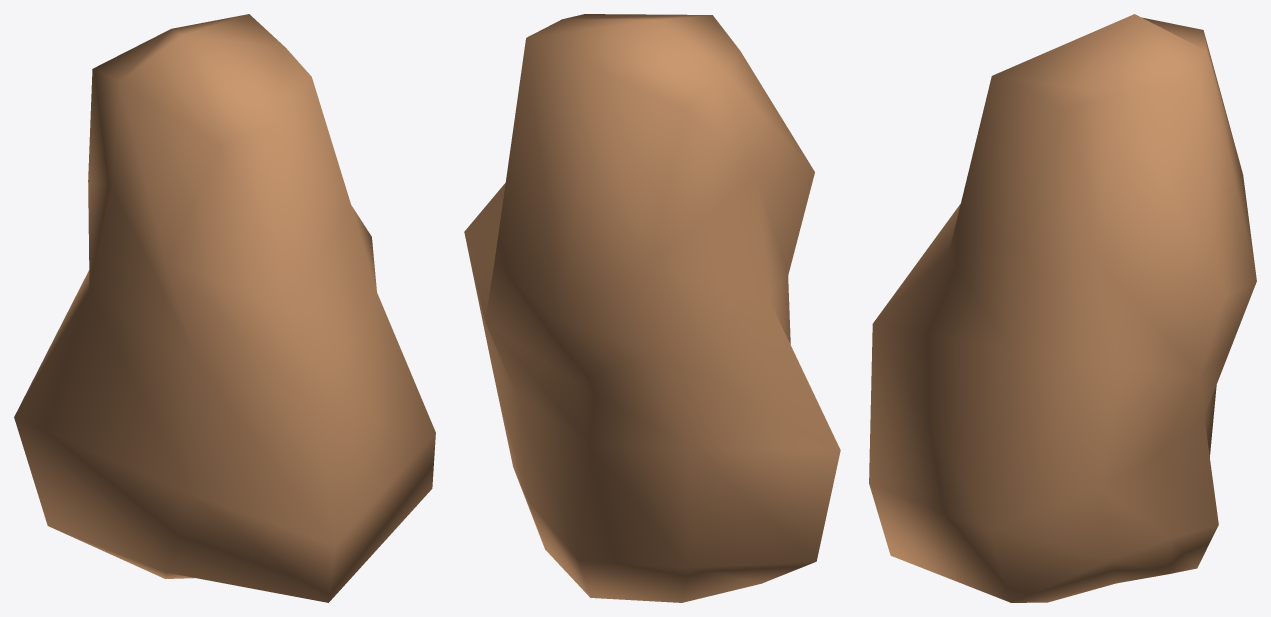
The model's file is Rock_2.fbx.
3 views of the same model, side by side, from view 1: azimuth 30°, elevation 25°; view 2: azimuth 150°, elevation 25°; view 3: azimuth 270°, elevation 25° (orthographic). The views are drawn at different scales.
Visible parts, largest first — view 1: rock_3; view 2: rock_3; view 3: rock_3.
Boxes of the visible parts, x1,y1,x2,y2 form: rock_3: [14, 14, 435, 602]; rock_3: [464, 14, 840, 602]; rock_3: [869, 14, 1256, 602].
Size of the model in its own units: 1028 by 1387 by 903.
